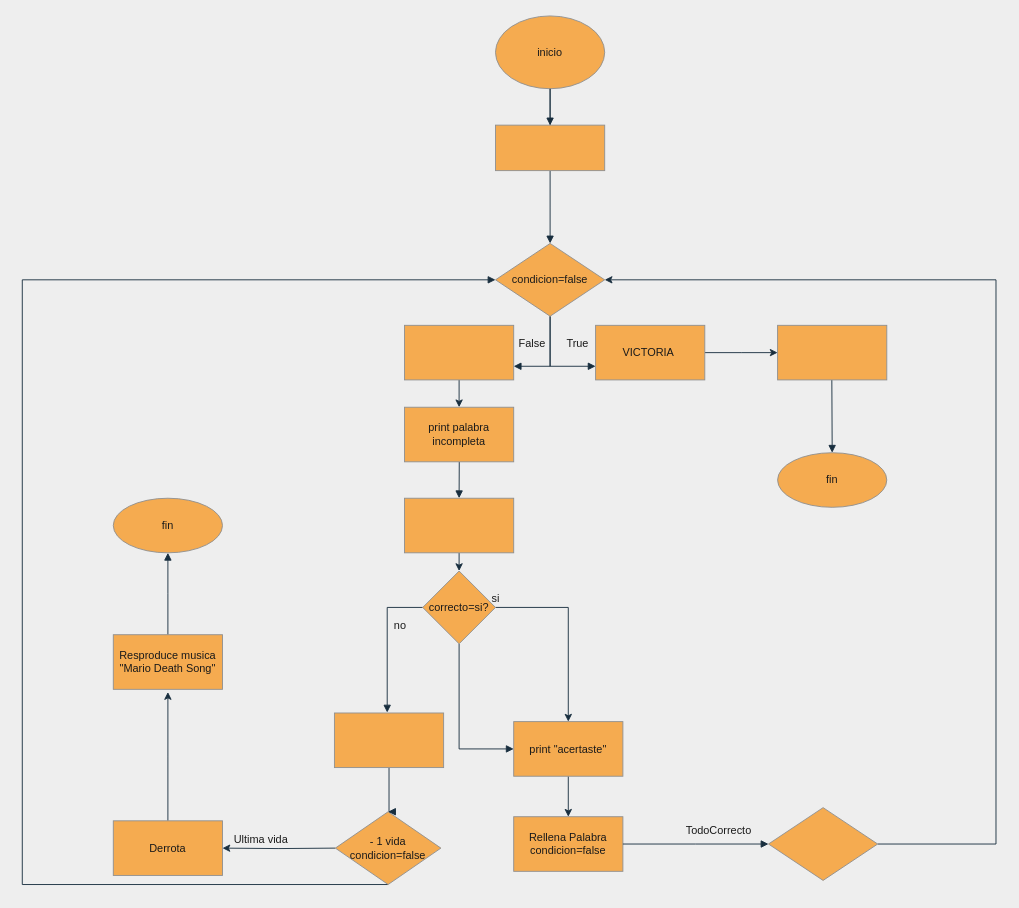
Some shapes in this 1019 by 908 pixel diagram are drawn without their labels. The centre of each missing label's shape, as x and y in pixels:
Condicion= True: point (823, 843)
PalabraElegida: point (459, 352)
prender luz roja print "error": point (389, 740)
print menu: point (550, 147)
Reproduce musica "never gonna give you up": point (832, 352)
Selecciona Vocal: point (459, 525)
